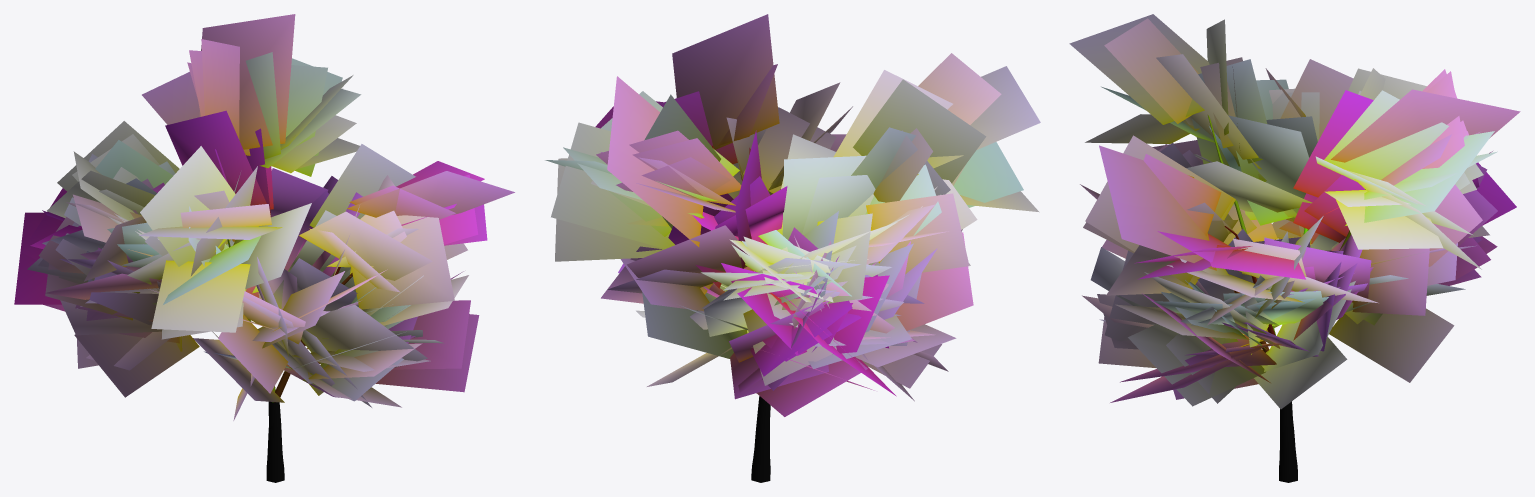
The model's file is tree_zelkova_a_lod1.glb.
3 renders of one model, left to right at view 1: azimuth 30°, elevation 25°; view 2: azimuth 150°, elevation 25°; view 3: azimuth 270°, elevation 25°, orthographic. The views are drawn at different scales.
Parts seen in each view (by area): view 1: tree_zelkova_a_lod1; view 2: tree_zelkova_a_lod1; view 3: tree_zelkova_a_lod1.
Part boxes in pixels (x1,y1,x2,y2): tree_zelkova_a_lod1: (14, 14, 514, 482); tree_zelkova_a_lod1: (545, 14, 1040, 482); tree_zelkova_a_lod1: (1069, 14, 1520, 482).
Bounding box in the file's own units: 14.8 × 14.64 × 13.93.
